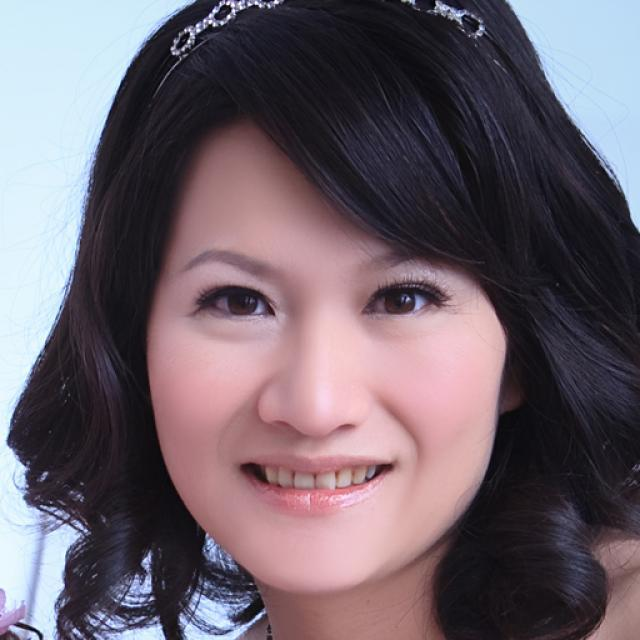happy: (146, 112, 509, 594)
